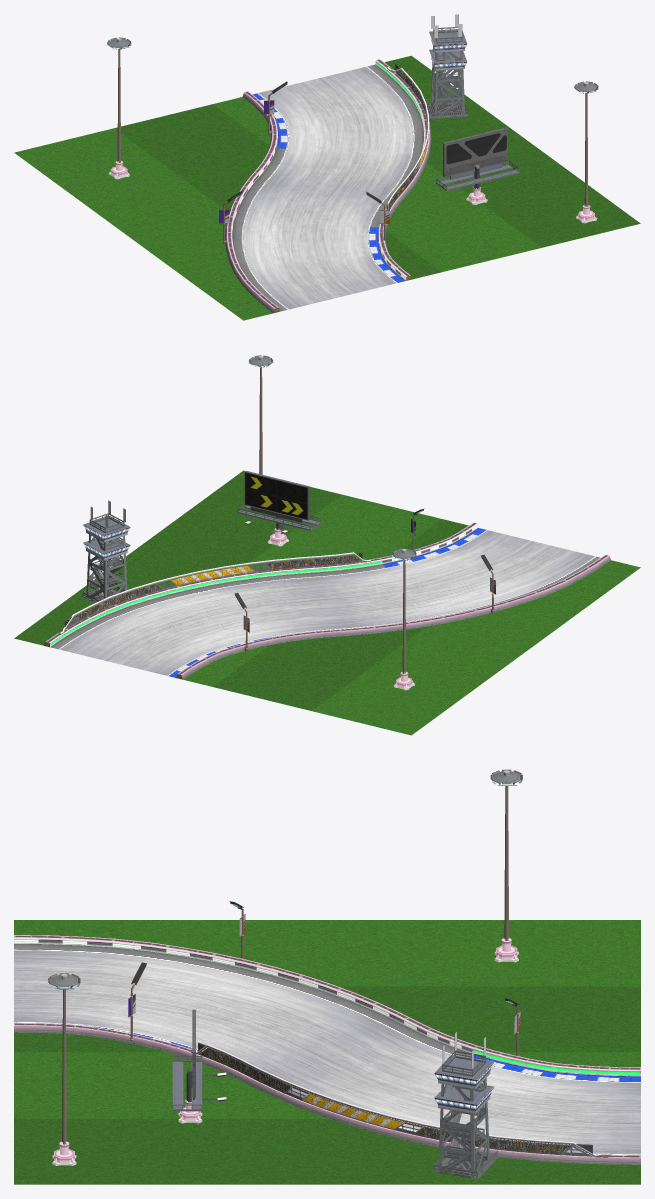
File: T12 - Ground.fbx
3 renders of one model, top to bottom at view 1: azimuth 30°, elevation 25°; view 2: azimuth 150°, elevation 25°; view 3: azimuth 270°, elevation 25°, orthographic. The views are drawn at different scales.
Visible parts, largest first — view 1: standard_ground_grass7, drift_road, wall_drift10, prop_billboard_right, pro_stewards_tower, corner_arrows_steering_large1, pro_floodlight_overhead, pro_floodlight_overhead_1, tower_attachment_slanted; view 2: standard_ground_grass7, drift_road, wall_drift10, prop_billboard_right, corner_arrows_steering_large1, pro_stewards_tower, pro_floodlight_overhead_1, pro_floodlight_overhead; view 3: standard_ground_grass7, drift_road, wall_drift10, pro_stewards_tower, corner_arrows_steering_large1, prop_billboard_right, pro_floodlight_overhead_1, pro_floodlight_overhead, tower_attachment_slanted.
Boxes of the visible parts, x1,y1,x2,y2 form: standard_ground_grass7: (14,55,640,320); drift_road: (232,64,423,311); wall_drift10: (225,59,431,313); prop_billboard_right: (436,127,519,192); pro_stewards_tower: (429,14,467,116); corner_arrows_steering_large1: (386,63,429,209); pro_floodlight_overhead: (107,37,131,162); pro_floodlight_overhead_1: (574,81,598,206); tower_attachment_slanted: (424,98,467,118); standard_ground_grass7: (14,470,640,735); drift_road: (50,528,600,677); wall_drift10: (44,522,610,679); prop_billboard_right: (237,471,321,533); corner_arrows_steering_large1: (58,552,370,634); pro_stewards_tower: (83,500,130,601); pro_floodlight_overhead_1: (249,355,273,474); pro_floodlight_overhead: (392,548,416,673); standard_ground_grass7: (14,920,640,1184); drift_road: (14,944,640,1155); wall_drift10: (14,935,640,1164); pro_stewards_tower: (434,1032,494,1176); corner_arrows_steering_large1: (191,1042,610,1157); prop_billboard_right: (172,1009,226,1111); pro_floodlight_overhead_1: (48,973,80,1144); pro_floodlight_overhead: (490,769,522,940); tower_attachment_slanted: (432,1147,498,1179).
Bounding box in the file's own units: 12800 × 4282 × 12800.
